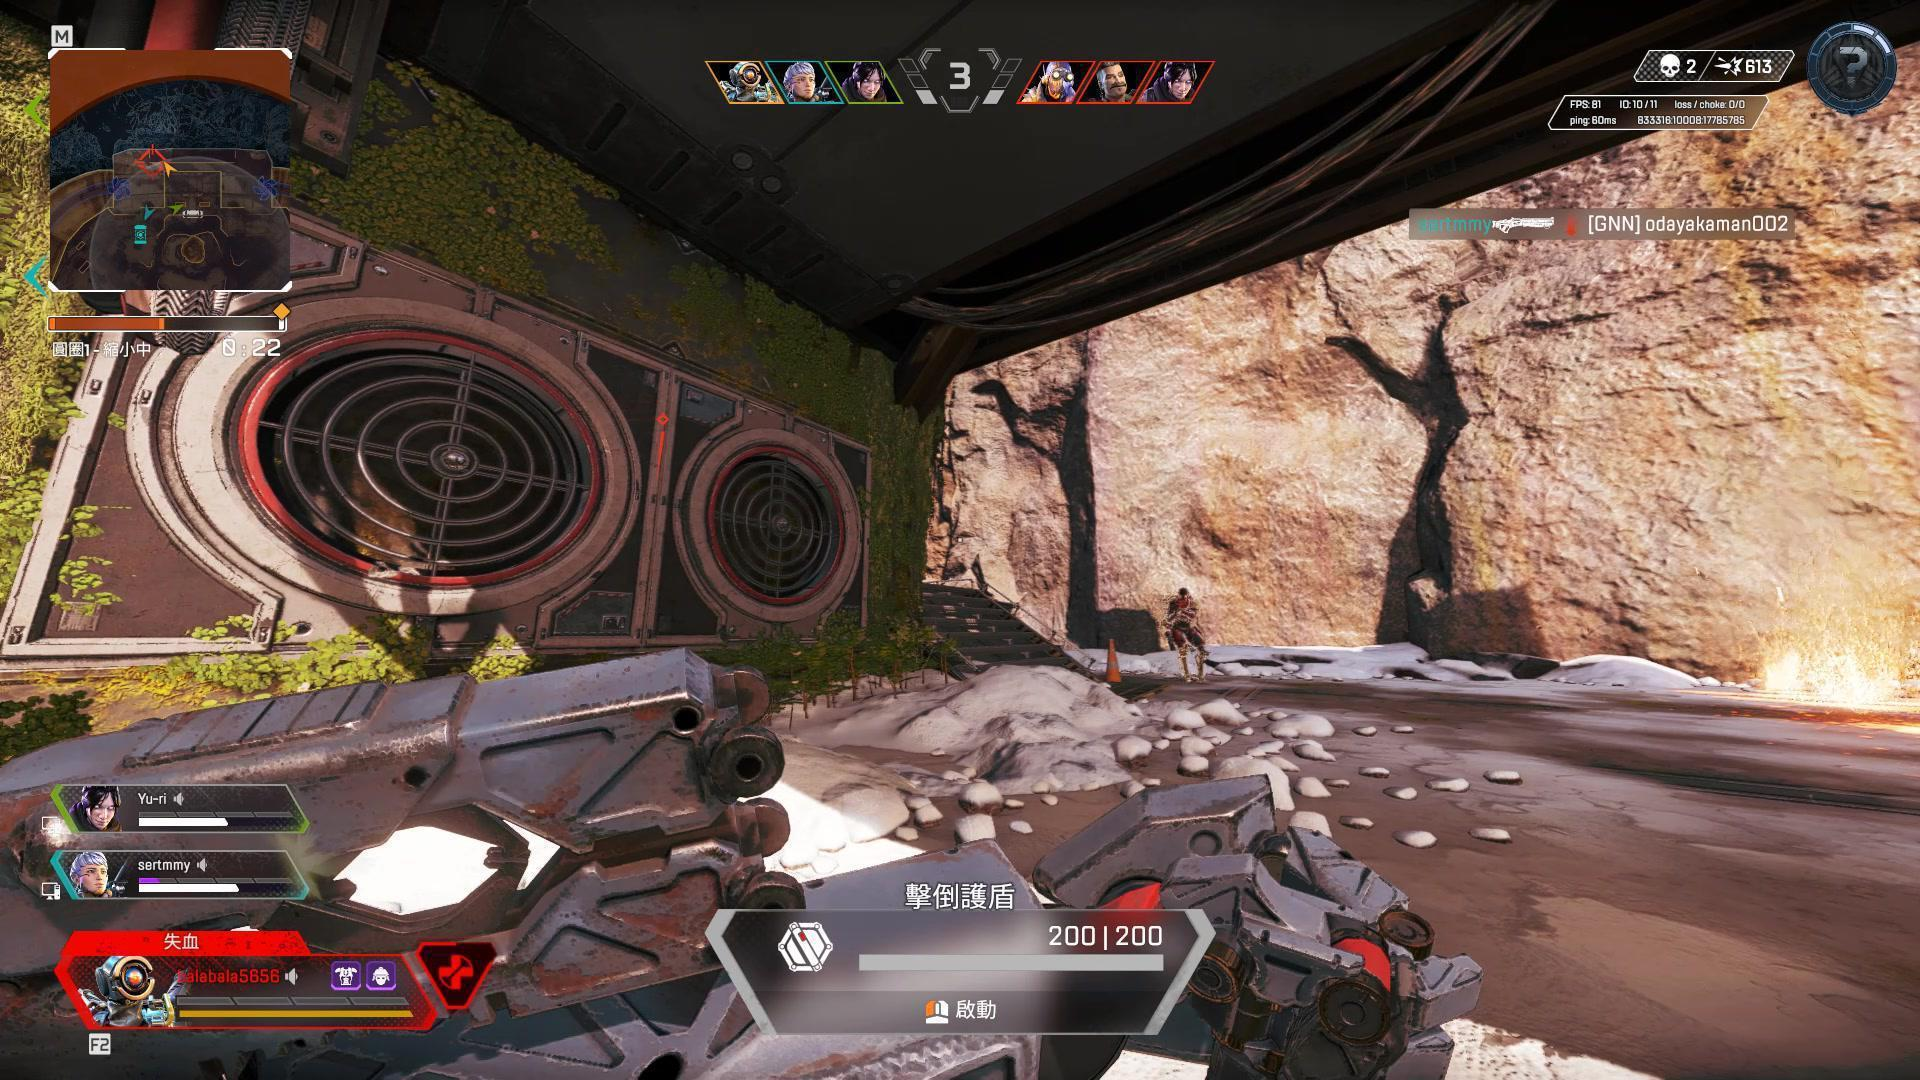avatar: (1161, 585, 1208, 686)
